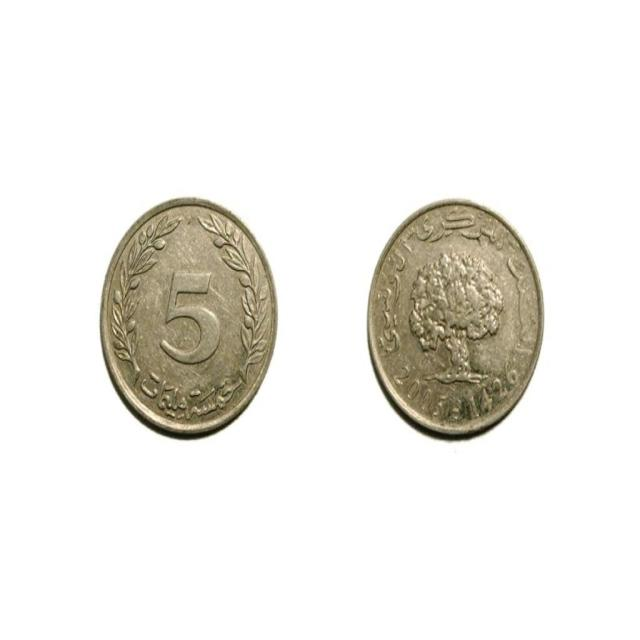Coin: (96, 192, 280, 434), (365, 196, 545, 439)
